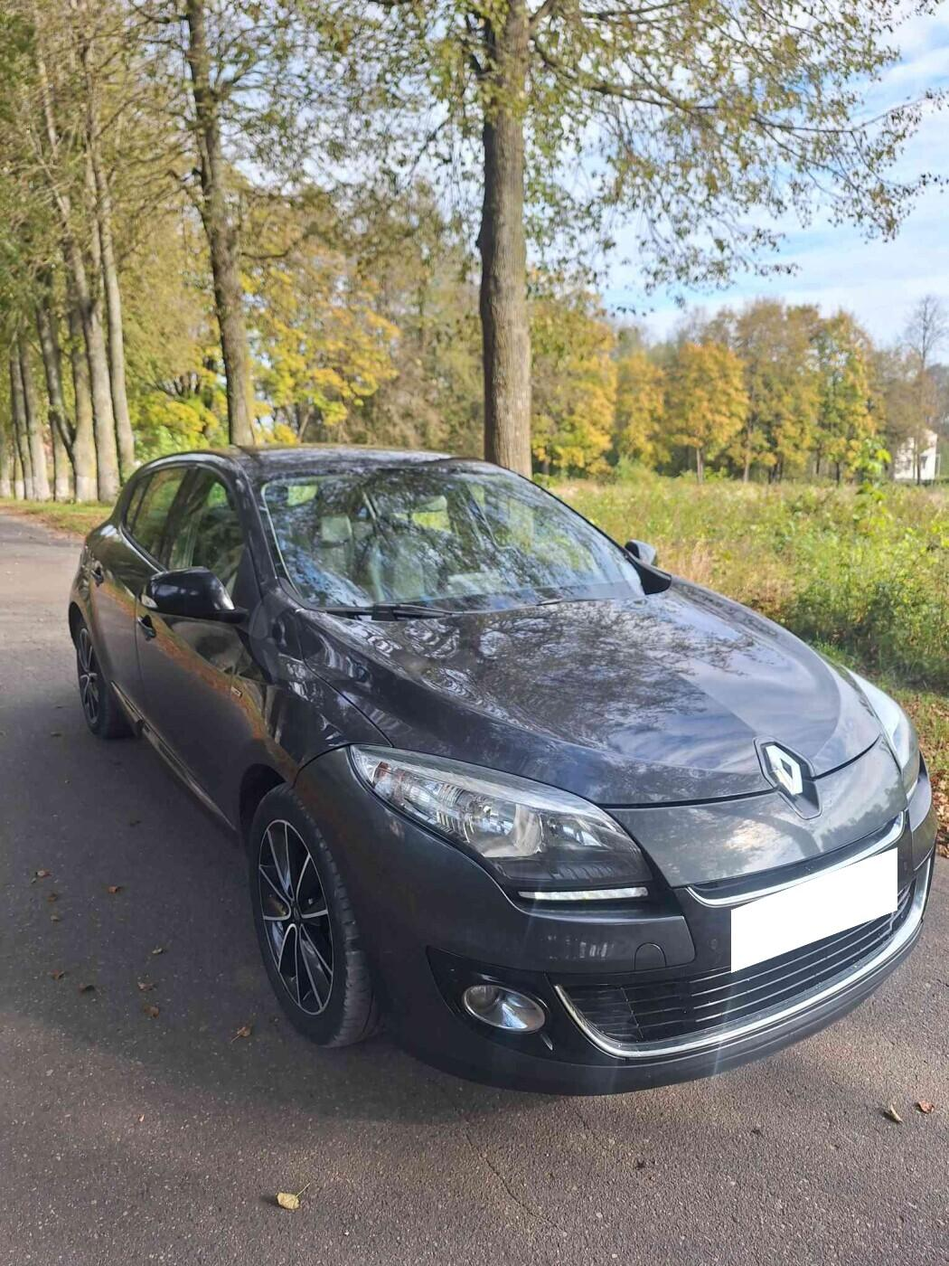Megane_2012-2014: (74, 439, 945, 1078)
